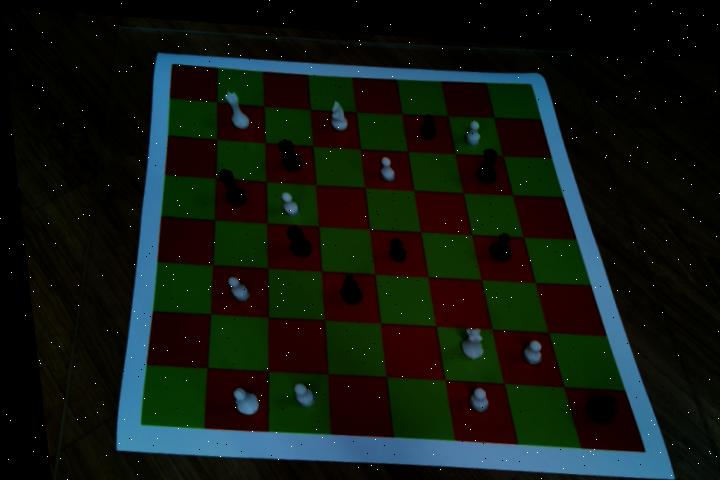chessboard-detect: (130, 59, 637, 441)
